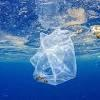Trash: (29, 26, 82, 88)
